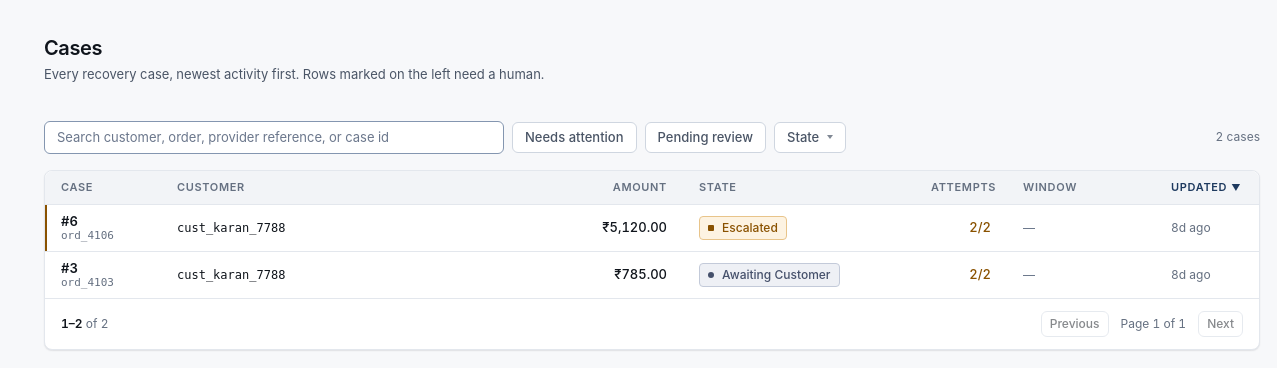
Scenario: queue filters live in the URL › writes a toggled filter into the URL
This screenshot has width=1277, height=368.
Expected: the text "ord_4103" is shown, x1=61 y1=276 x2=114 y2=290
Click the button "Needs attention".
click(574, 137)  # box x1=512 y1=122 x2=636 y2=153
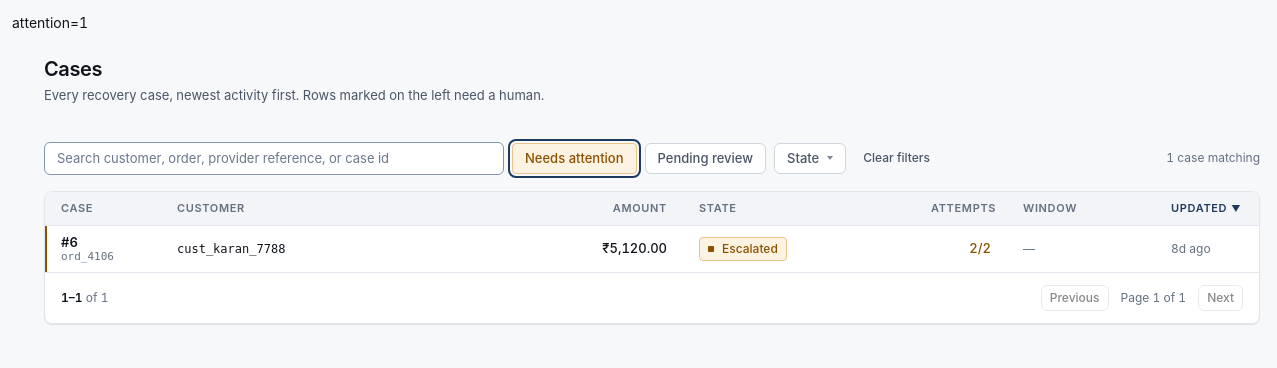
Expected: the text with test id "url" reads "attention=1", x1=12 y1=14 x2=88 y2=31
